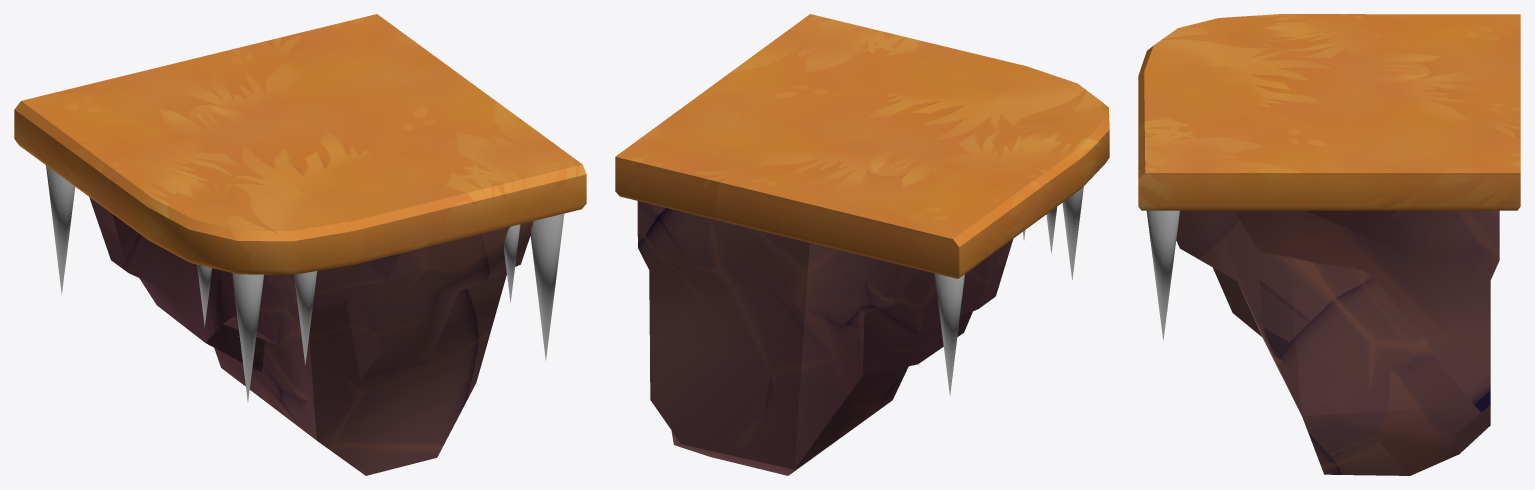
File: 1R Side.FBX
The picture shows the model from 3 angles, left to right: view 1: azimuth 30°, elevation 25°; view 2: azimuth 150°, elevation 25°; view 3: azimuth 270°, elevation 25°; orthographic projection. The views are drawn at different scales.
Visible parts, largest first — view 1: 1R Side, Ice Rock006, Ice Rock010, Ice Rock011, Ice Rock009, Ice Rock007; view 2: 1R Side, Ice Rock011, Ice Rock010; view 3: 1R Side, Ice Rock006.
Part boxes in pixels (x1=…): 1R Side: x1=14, y1=14, x2=586, y2=475; Ice Rock006: x1=530, y1=213, x2=564, y2=360; Ice Rock010: x1=232, y1=273, x2=263, y2=402; Ice Rock011: x1=46, y1=165, x2=75, y2=294; Ice Rock009: x1=294, y1=271, x2=317, y2=364; Ice Rock007: x1=504, y1=224, x2=520, y2=302; 1R Side: x1=615, y1=14, x2=1109, y2=475; Ice Rock011: x1=934, y1=273, x2=964, y2=396; Ice Rock010: x1=1062, y1=186, x2=1083, y2=279; 1R Side: x1=1138, y1=14, x2=1520, y2=475; Ice Rock006: x1=1146, y1=210, x2=1179, y2=340.
Size of the model in its own units: 10.63 by 10.63 by 9.9.
